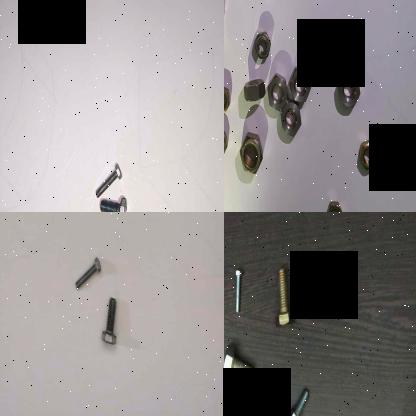Bolts: (224, 341, 257, 388), (272, 262, 294, 332), (99, 287, 120, 351), (71, 254, 106, 292), (92, 159, 122, 197), (287, 377, 309, 416), (230, 262, 244, 316), (96, 192, 131, 212)
NUTS: (237, 127, 264, 178), (276, 97, 302, 138), (336, 66, 360, 110), (286, 62, 312, 102), (266, 73, 288, 113), (242, 76, 270, 104), (358, 134, 378, 170), (323, 34, 343, 67), (251, 29, 271, 60), (310, 48, 328, 80), (323, 196, 343, 212), (224, 79, 230, 114), (224, 128, 229, 157)
